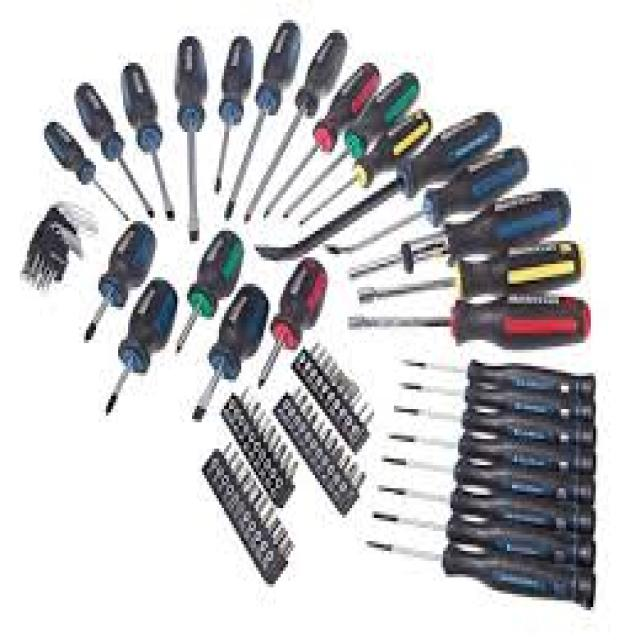screw driver: (382, 342, 612, 628), (68, 212, 160, 352), (161, 23, 216, 254), (258, 253, 337, 389)
